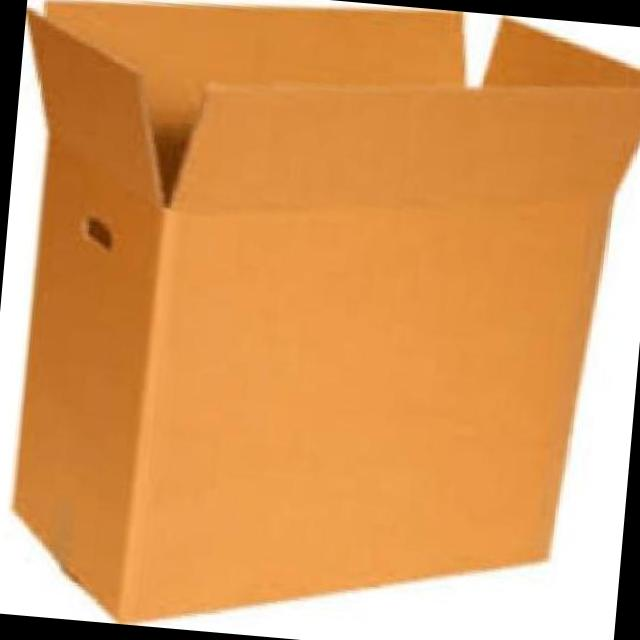Kertas: (15, 2, 640, 620)
